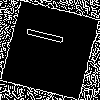I: (25, 24, 74, 49)
